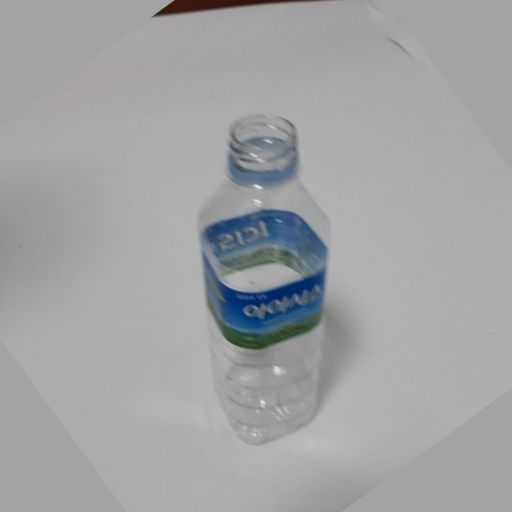Plastic_0: (197, 112, 336, 450)
